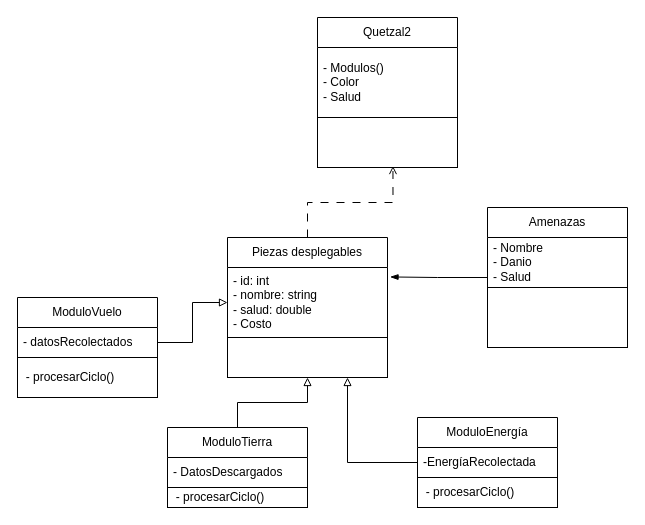
Image size: 645x525. Some labels were removed from this diagram. The centre of each missing label's shape, as x and y in pixels:
- procesarCiclo() - recibirDanio(): the point at 307,357
- procesarDanio () - recibirDanio (): the point at 387,142
- recibirDanio() - Atacar(): the point at 557,317
